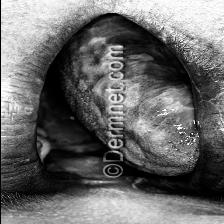Non-Cancerous Skin Condition: (50, 25, 106, 138), (126, 52, 176, 146)
